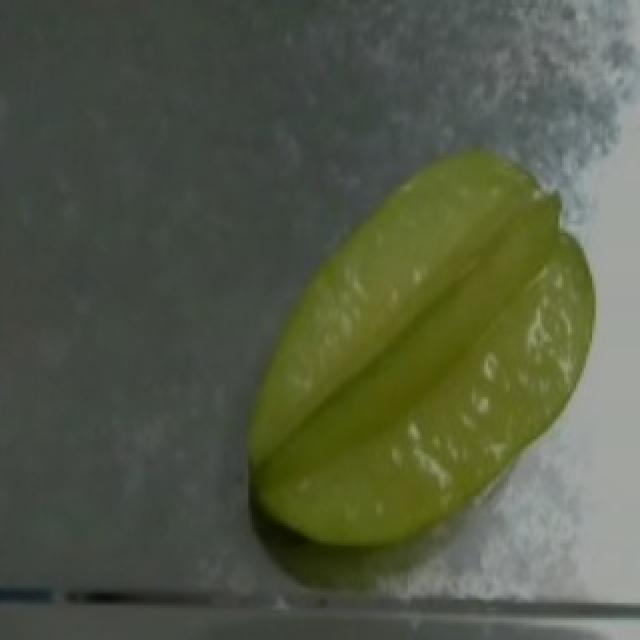fruit: (222, 109, 632, 531)
